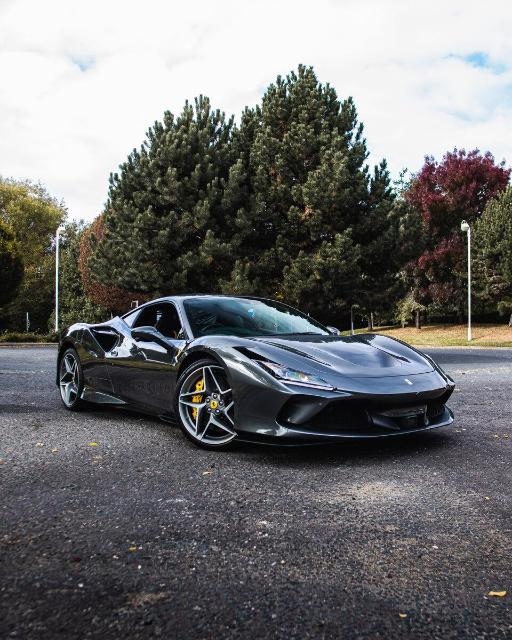ferrari: (54, 293, 460, 451)
